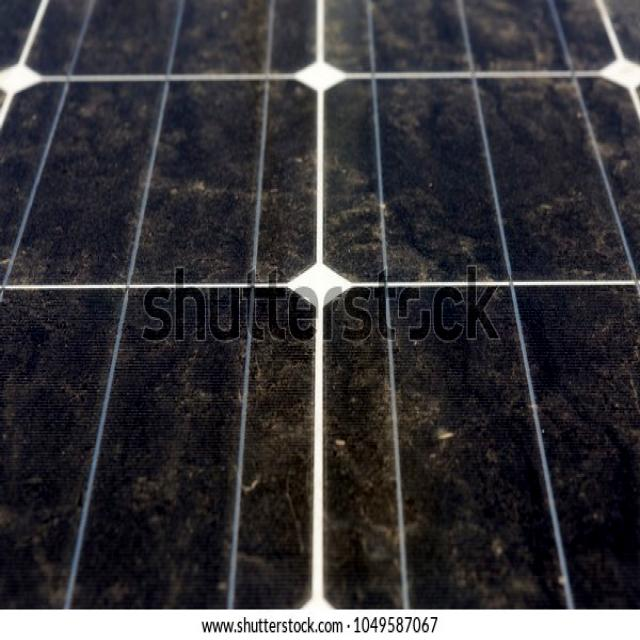dust: (330, 293, 446, 596), (167, 76, 317, 282), (336, 82, 494, 274), (487, 83, 640, 274), (132, 287, 220, 608), (9, 83, 139, 280), (564, 297, 640, 599), (472, 292, 546, 598), (0, 292, 69, 601), (328, 0, 602, 75), (258, 291, 304, 591), (89, 0, 268, 64)
